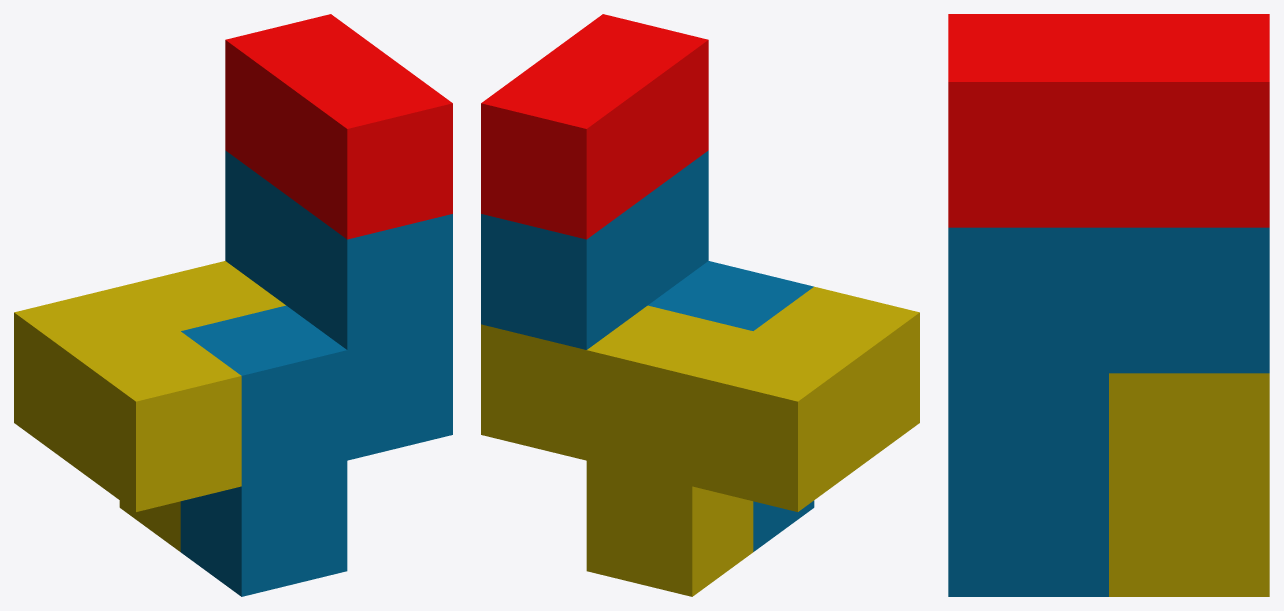
3 views of the same model, side by side, from view 1: azimuth 30°, elevation 25°; view 2: azimuth 150°, elevation 25°; view 3: azimuth 270°, elevation 25° (orthographic). The views are drawn at different scales.
Parts seen in each view (by area): view 1: mergedBlocks(Clone); view 2: mergedBlocks(Clone); view 3: mergedBlocks(Clone).
Boxes of the visible parts, bbox=[...] form: mergedBlocks(Clone): bbox=[14, 14, 452, 596]; mergedBlocks(Clone): bbox=[481, 14, 919, 596]; mergedBlocks(Clone): bbox=[948, 14, 1269, 596].
Bounding box in the file's own units: 3 × 4 × 2.
Materials: 3 (3 with a texture image).
